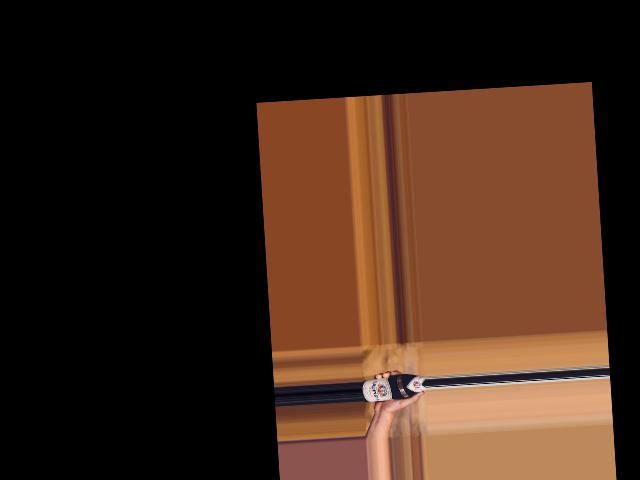beer: (361, 373, 425, 403)
